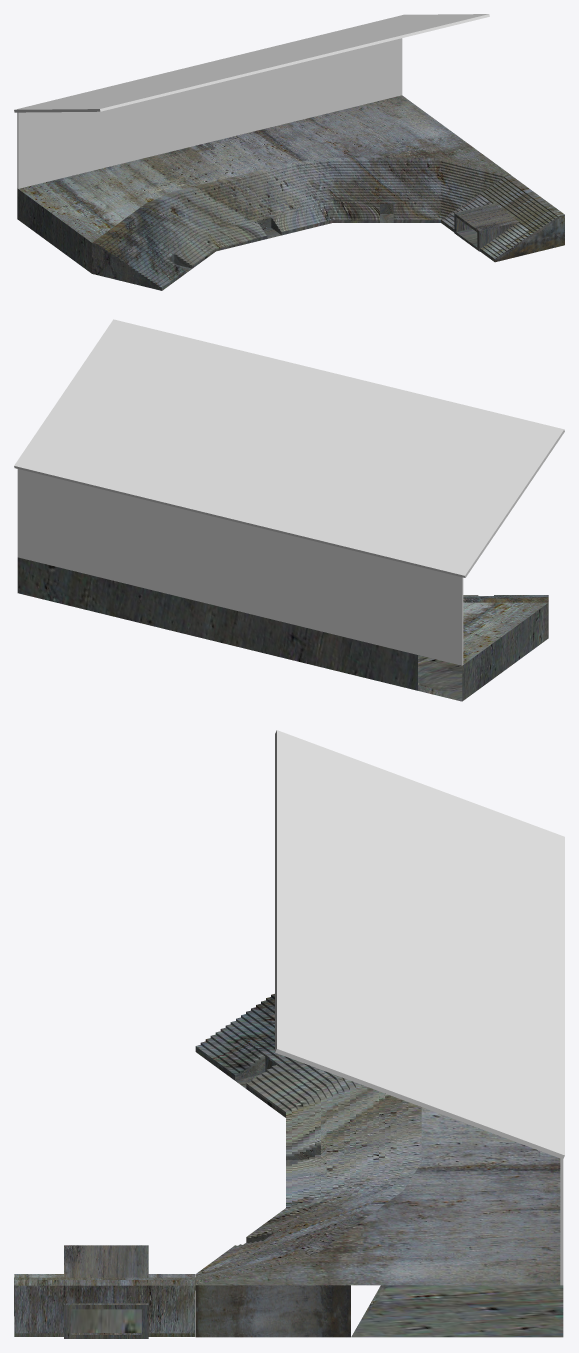
File: keh_BigStair_Aagin_.modified.fbx
3 views of the same model, one above another, from view 1: azimuth 30°, elevation 25°; view 2: azimuth 150°, elevation 25°; view 3: azimuth 270°, elevation 25° (orthographic). The views are drawn at different scales.
Parts seen in each view (by area): view 1: BigStair_body.001, Wall.001, BigStair_body_cover, Celiing.001, BigStair_Entrance.001, BigStair_door.001; view 2: Celiing.001, Wall.001, BigStair_body.001, BigStair_body_cover; view 3: Celiing.001, BigStair_body.001, BigStair_body_cover, BigStair_Entrance.001, BigStair_door.001.
Boxes of the visible parts, box(x1,y1,x2,y2) form: BigStair_body.001: box(17, 157, 510, 290); Wall.001: box(17, 38, 402, 188); BigStair_body_cover: box(19, 95, 510, 242); Celiing.001: box(14, 14, 489, 112); BigStair_Entrance.001: box(441, 175, 564, 262); BigStair_door.001: box(168, 204, 393, 273); Celiing.001: box(14, 319, 564, 577); Wall.001: box(17, 469, 463, 665); BigStair_body.001: box(17, 557, 548, 701); BigStair_body_cover: box(463, 602, 547, 664); Celiing.001: box(275, 730, 564, 1159); BigStair_body.001: box(195, 994, 563, 1337); BigStair_body_cover: box(197, 1107, 560, 1285); BigStair_Entrance.001: box(14, 1245, 195, 1338); BigStair_door.001: box(235, 1057, 320, 1243).
Size of the model in its own units: 16000 by 6808 by 11689.
